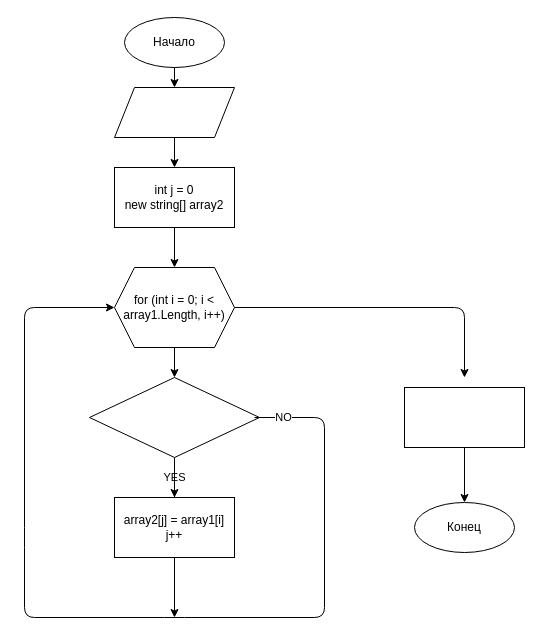
This 542x643 diagram has some shape labels left out. Each missing label, with the box of its shape:
if (array1[i].Length <= 3): (88, 376, 260, 458)
string[] array1: (114, 86, 234, 138)
Печать непустых элементов array2: (404, 386, 524, 448)
